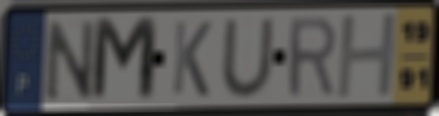H: (334, 10, 400, 102)
K: (169, 18, 214, 100)
M: (89, 15, 161, 106)
N: (44, 17, 98, 105)
R: (286, 13, 339, 101)
U: (219, 15, 277, 100)
